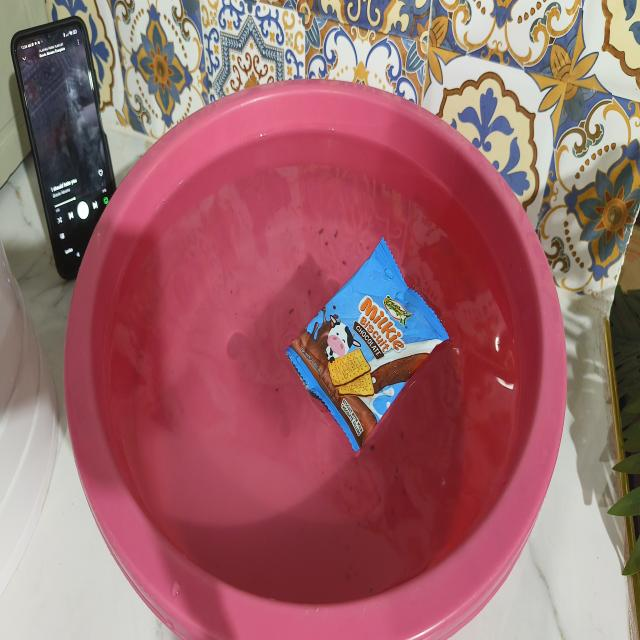Plastic Wrapper: (285, 239, 449, 451)
